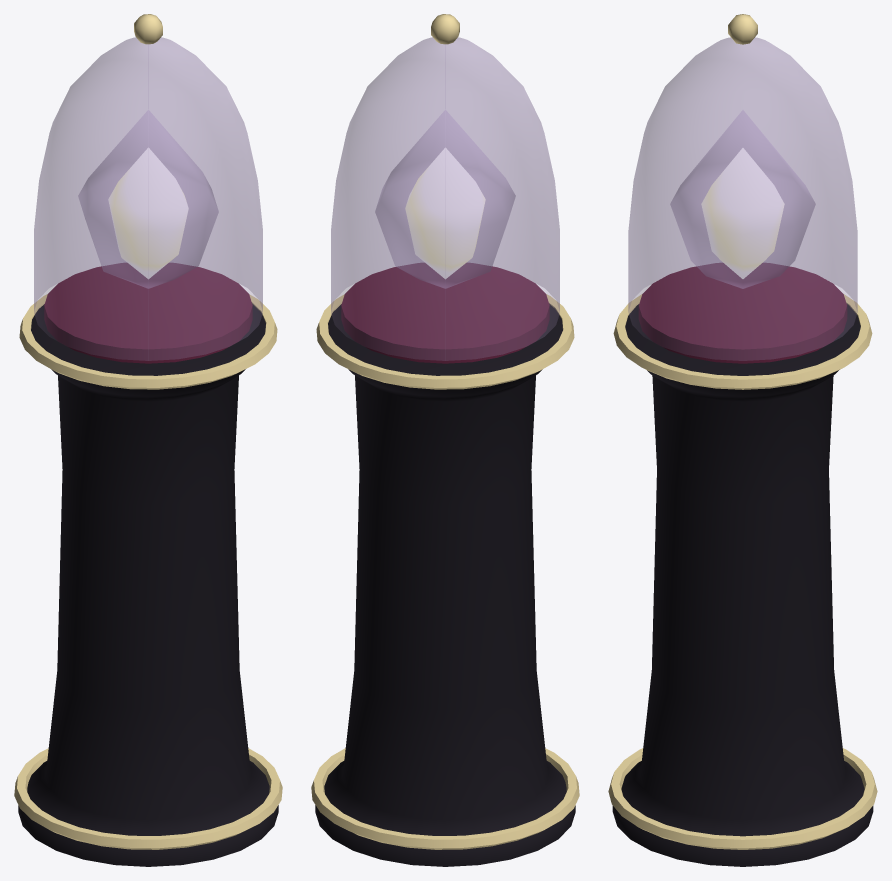
Rendered from pedestal_dome_gem.glb.
3 views of the same model, side by side, from view 1: azimuth 30°, elevation 25°; view 2: azimuth 150°, elevation 25°; view 3: azimuth 270°, elevation 25° (orthographic).
Visible parts, largest first — view 1: pedestal_dome_gem; view 2: pedestal_dome_gem; view 3: pedestal_dome_gem.
Part boxes in pixels (bbox=[...]): pedestal_dome_gem: bbox=[14, 14, 282, 866]; pedestal_dome_gem: bbox=[311, 14, 579, 866]; pedestal_dome_gem: bbox=[608, 14, 877, 866].
Bounding box in the file's own units: 0.5166 × 1.7 × 0.5166.
